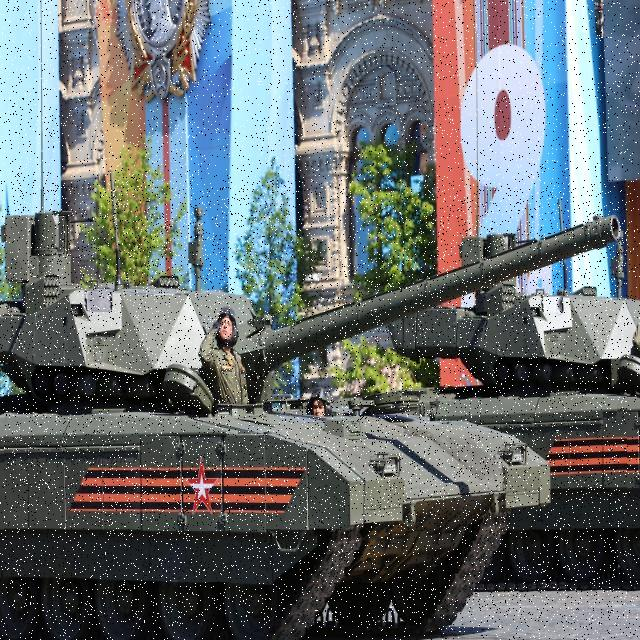MIL_MBT: (5, 180, 627, 624)
